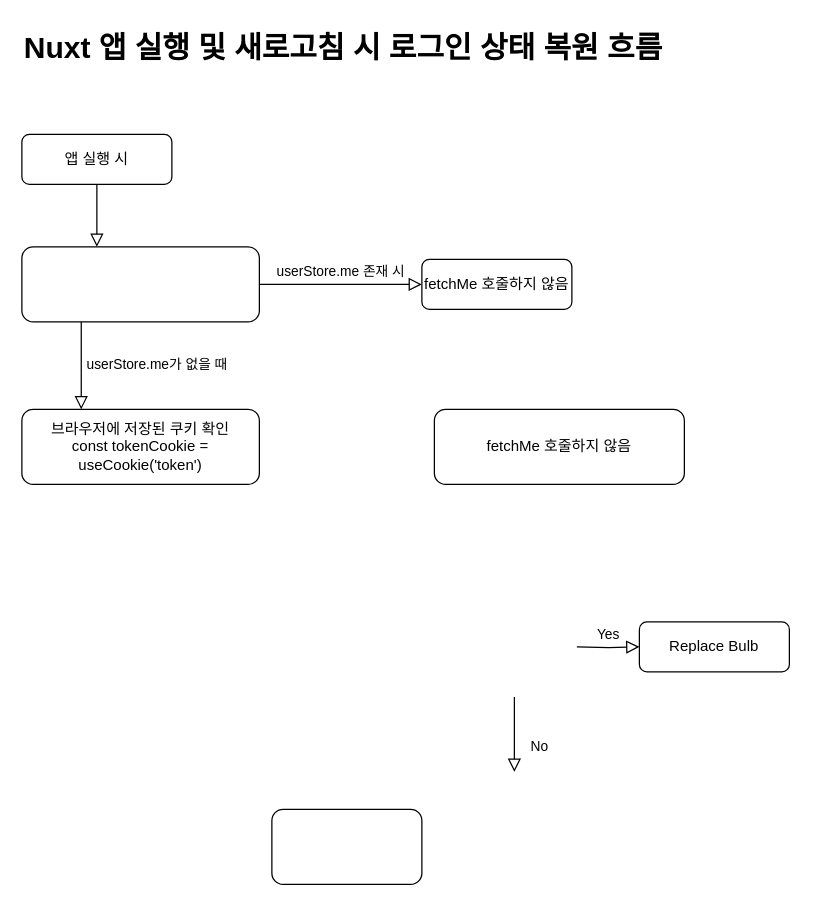
The diagram is 819 pixels wide and 906 high, and some of its shapes have lost their labels. Here are the shapes that lost their labels. From the top down, the centre of each, then its label:
At [140,284]: "plugins/fetchMe.client.js 자동 실행".
At [346,846]: "Repair Lamp".
